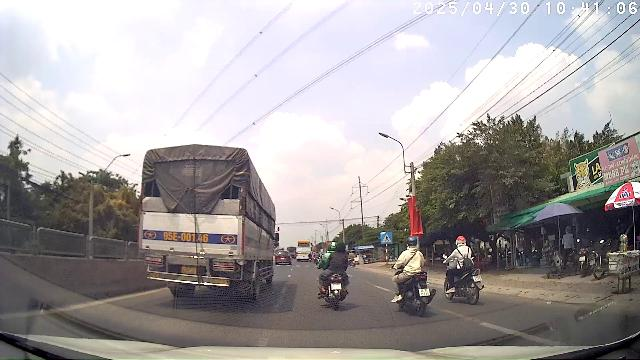423a-duong-nguoi-di-bo-sang-ngang-1: (381, 231, 392, 244)
